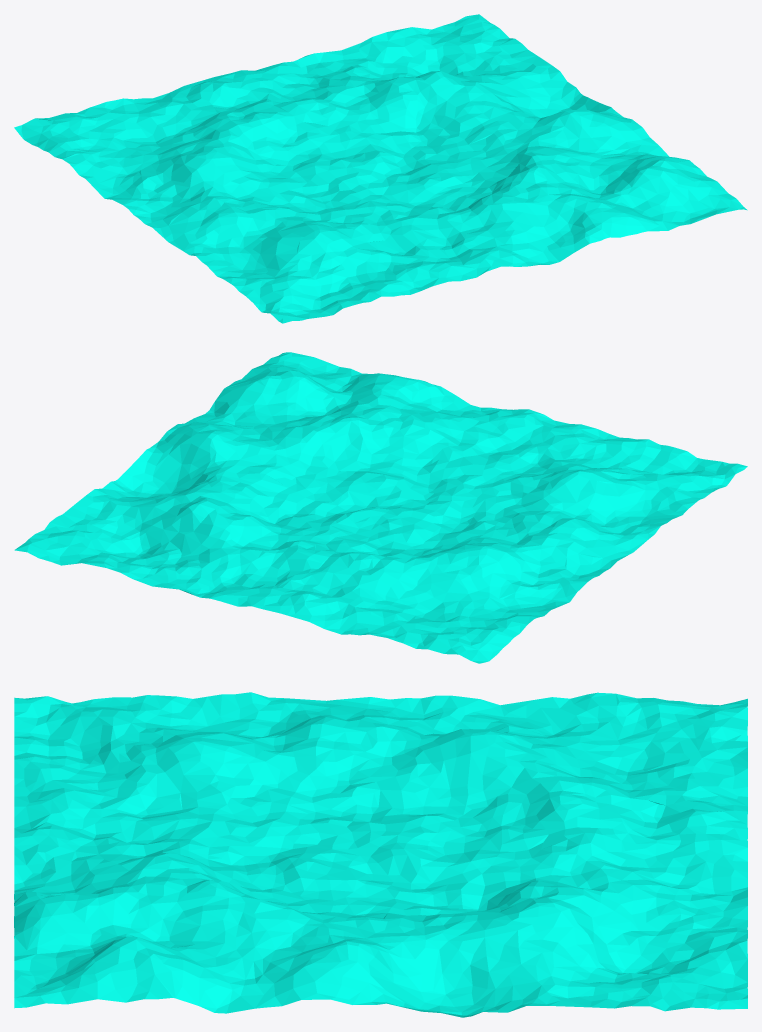
Rendered from Water.fbx.
The picture shows the model from 3 angles, top to bottom: view 1: azimuth 30°, elevation 25°; view 2: azimuth 150°, elevation 25°; view 3: azimuth 270°, elevation 25°; orthographic projection. The views are drawn at different scales.
Visible parts, largest first — view 1: Water; view 2: Water; view 3: Water.
Part boxes in pixels (left/top/right/bottom): Water: left=14, top=14, right=747, bottom=323; Water: left=14, top=352, right=747, bottom=663; Water: left=14, top=692, right=747, bottom=1017.
Size of the model in its own units: 360 by 28.42 by 360.
